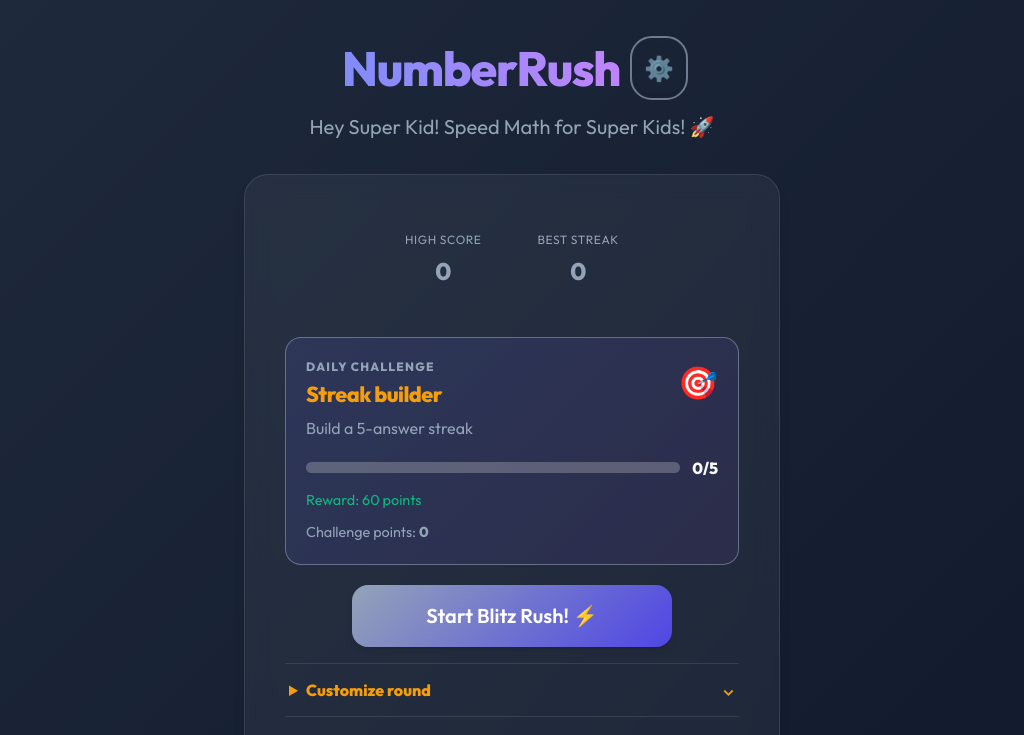
Test case: App keyboard gameplay › replaces the game content with settings and restores focus to the gear
Click the button named "Open settings" at (659, 68), box [636,42,682,94]
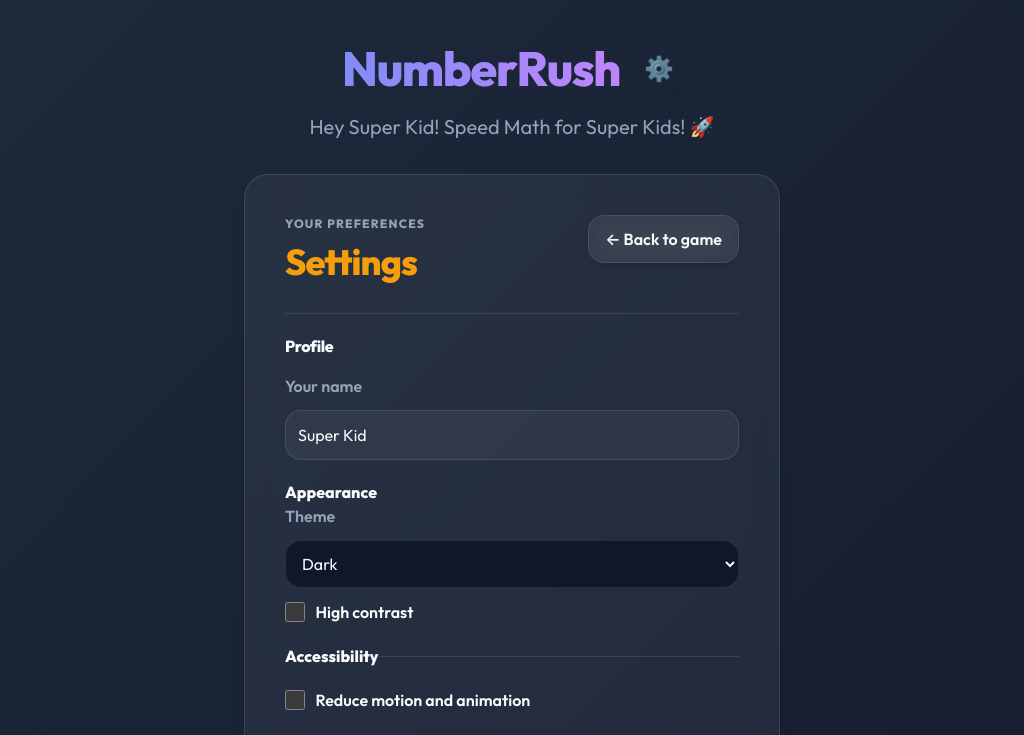
Expected: the text "Daily challenge" is gone
Click the button "← Back to game" at (664, 239), box [588,215,739,263]
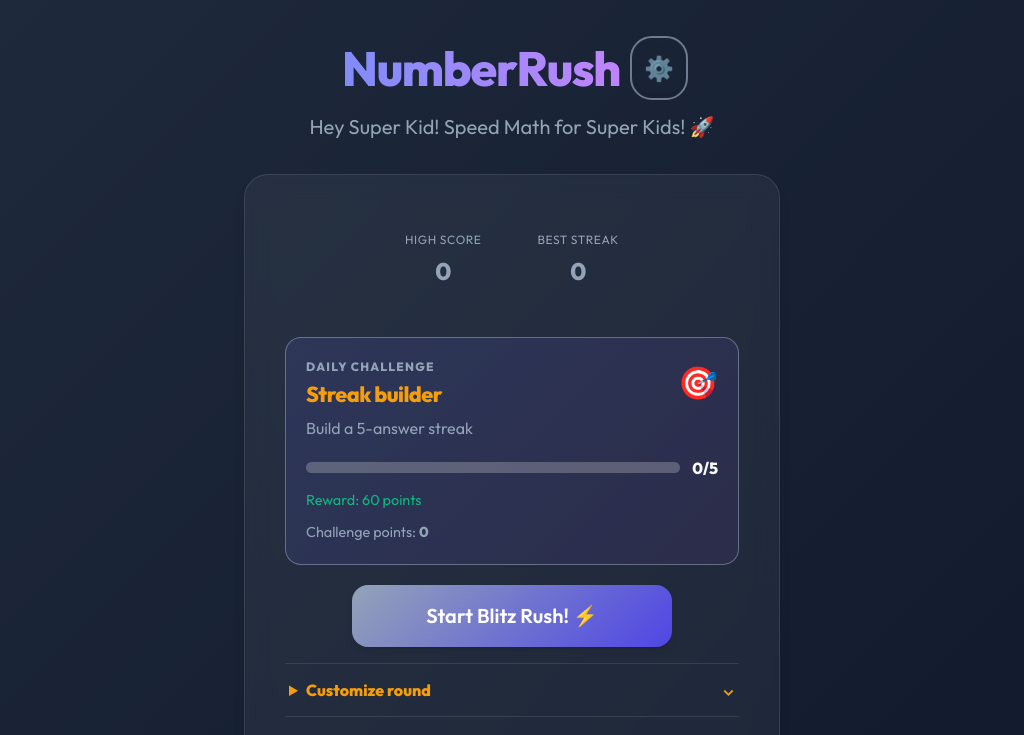
Expected: the text "Daily challenge" is shown, [306,359,435,374]
